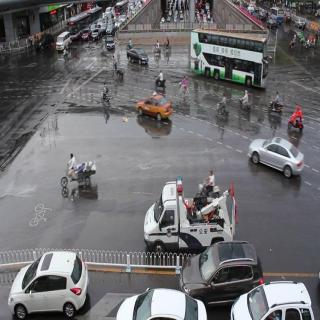Car: (142, 174, 242, 255), (4, 241, 89, 314), (188, 20, 270, 93), (111, 272, 213, 320), (179, 248, 264, 303), (249, 128, 306, 182), (230, 282, 311, 320), (132, 88, 173, 132), (126, 43, 150, 71), (68, 14, 92, 39), (31, 31, 58, 53), (54, 29, 70, 52), (269, 2, 284, 26), (294, 12, 307, 35), (92, 26, 102, 46), (106, 32, 116, 52), (82, 25, 90, 41)
